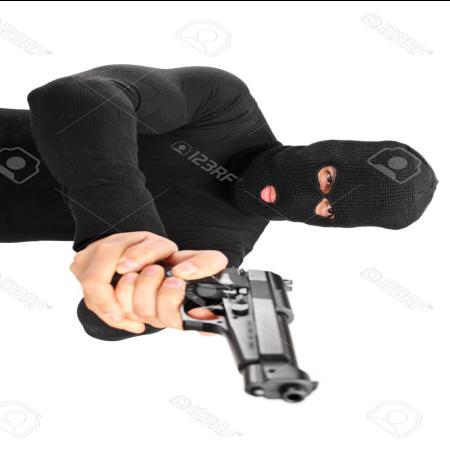Pistol: (133, 262, 320, 402)
